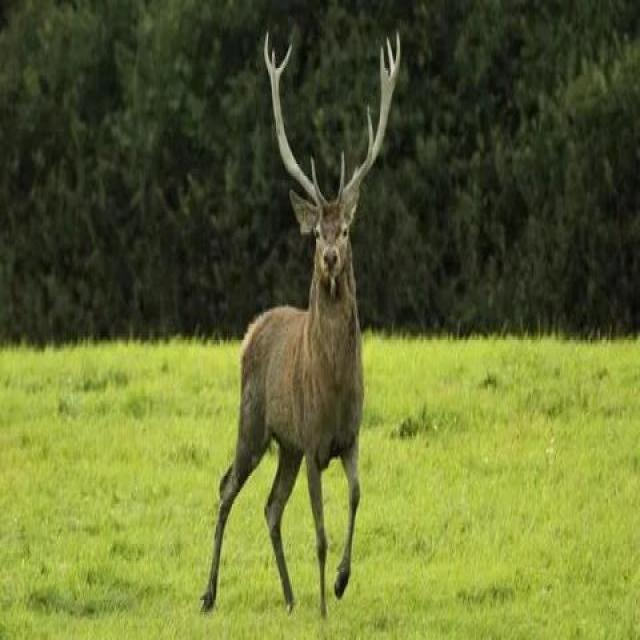deer: (182, 67, 424, 569)
